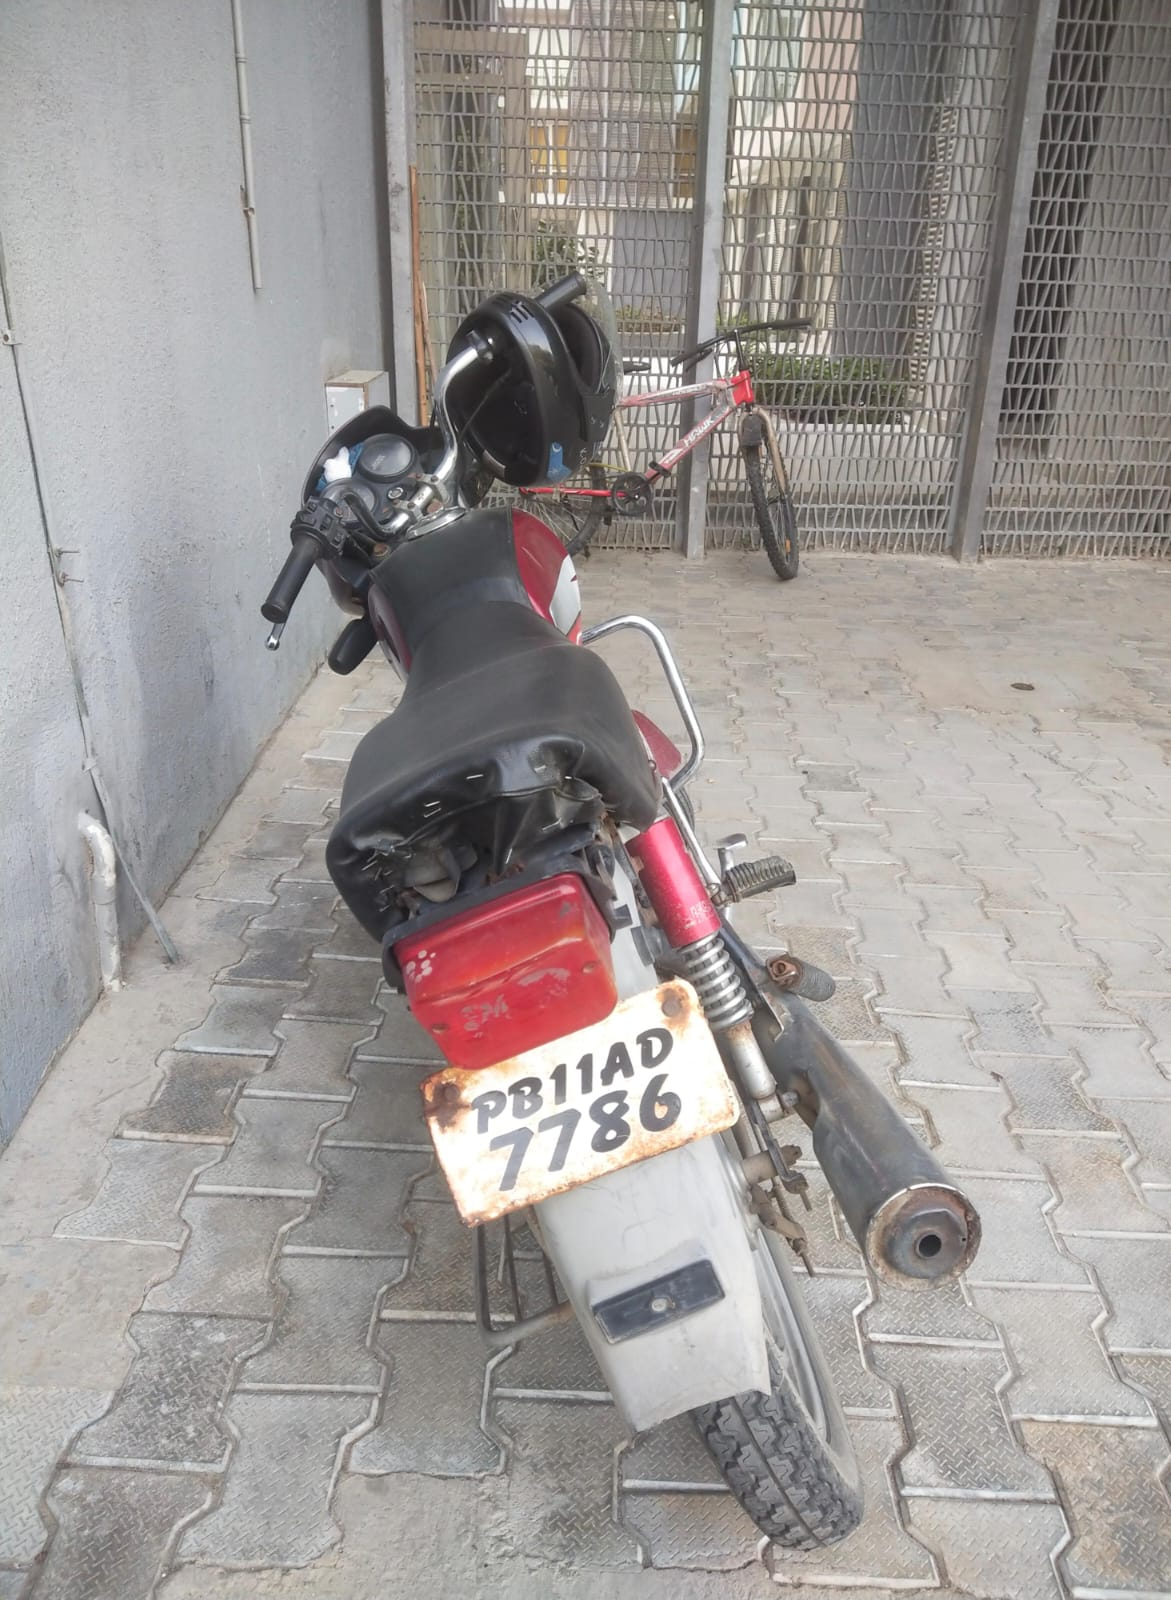license plate: (422, 979, 739, 1225)
